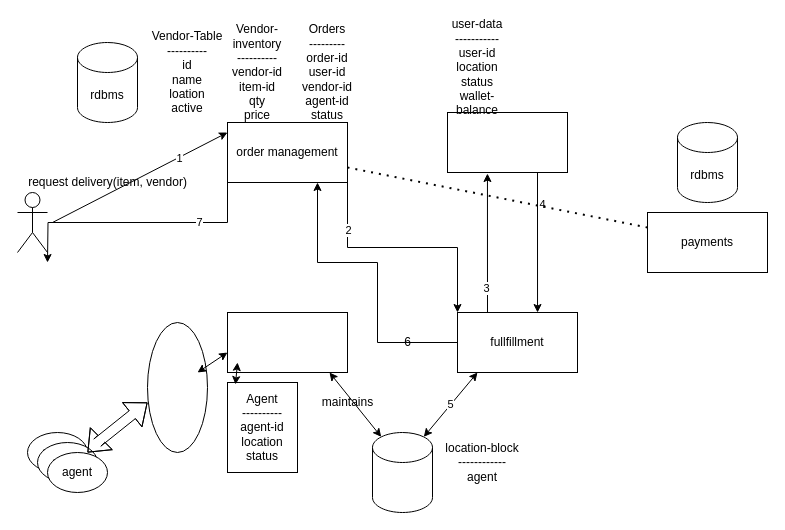
Some shapes in this 785 by 530 pixel diagram are drawn without their labels. Here are the shapes that lost their labels. From the top down, the centre of each, then its label:
the point at 507,142: user data
the point at 32,222: Actor
the point at 287,342: agent management
the point at 177,387: web-sockets
the point at 402,472: k-v store
